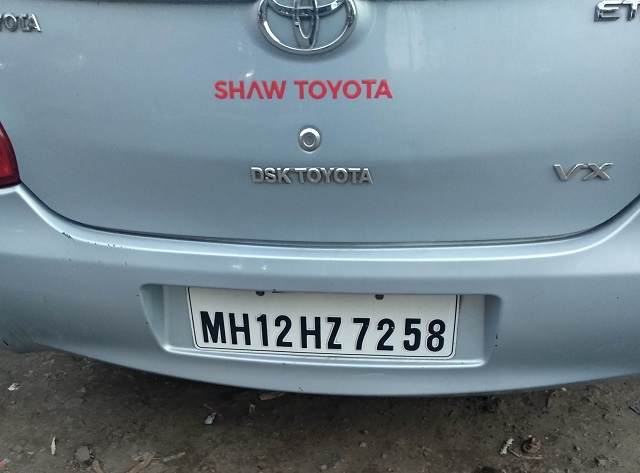licenseplate: (180, 284, 463, 365)
